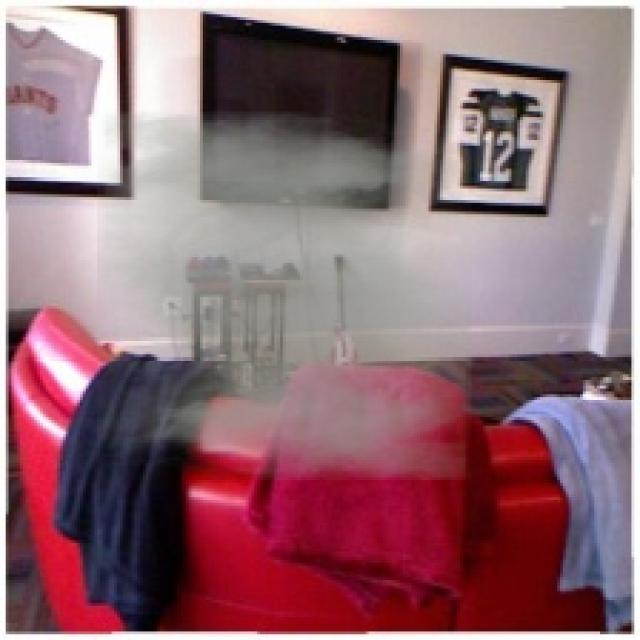smoke: (97, 111, 472, 480)
